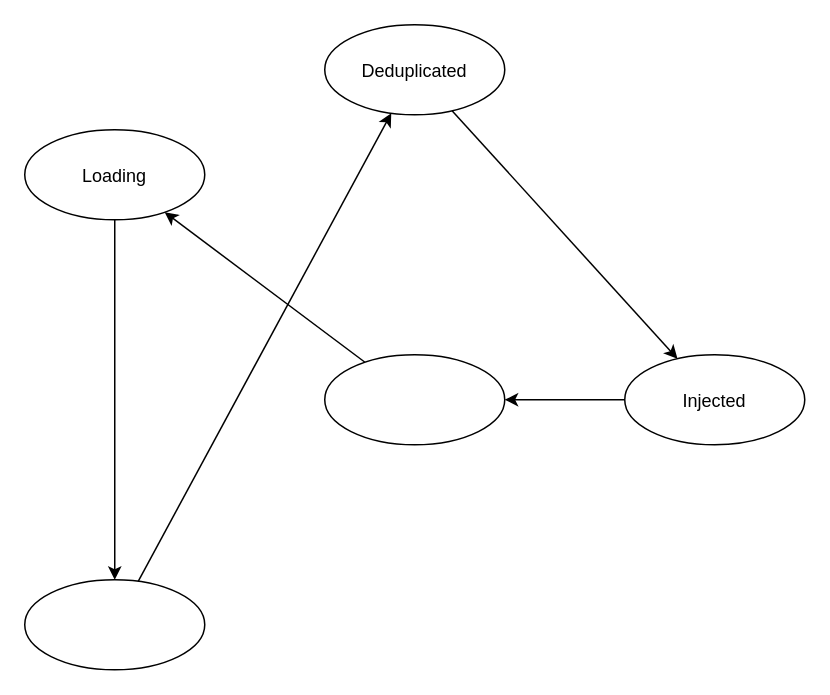
Some shapes in this 830 by 695 pixel diagram are drawn without their labels. Here are the shapes that lost their labels. From the top down, the box of each, then its label:
(323, 353, 505, 445): Idle
(23, 578, 205, 670): Loaded
